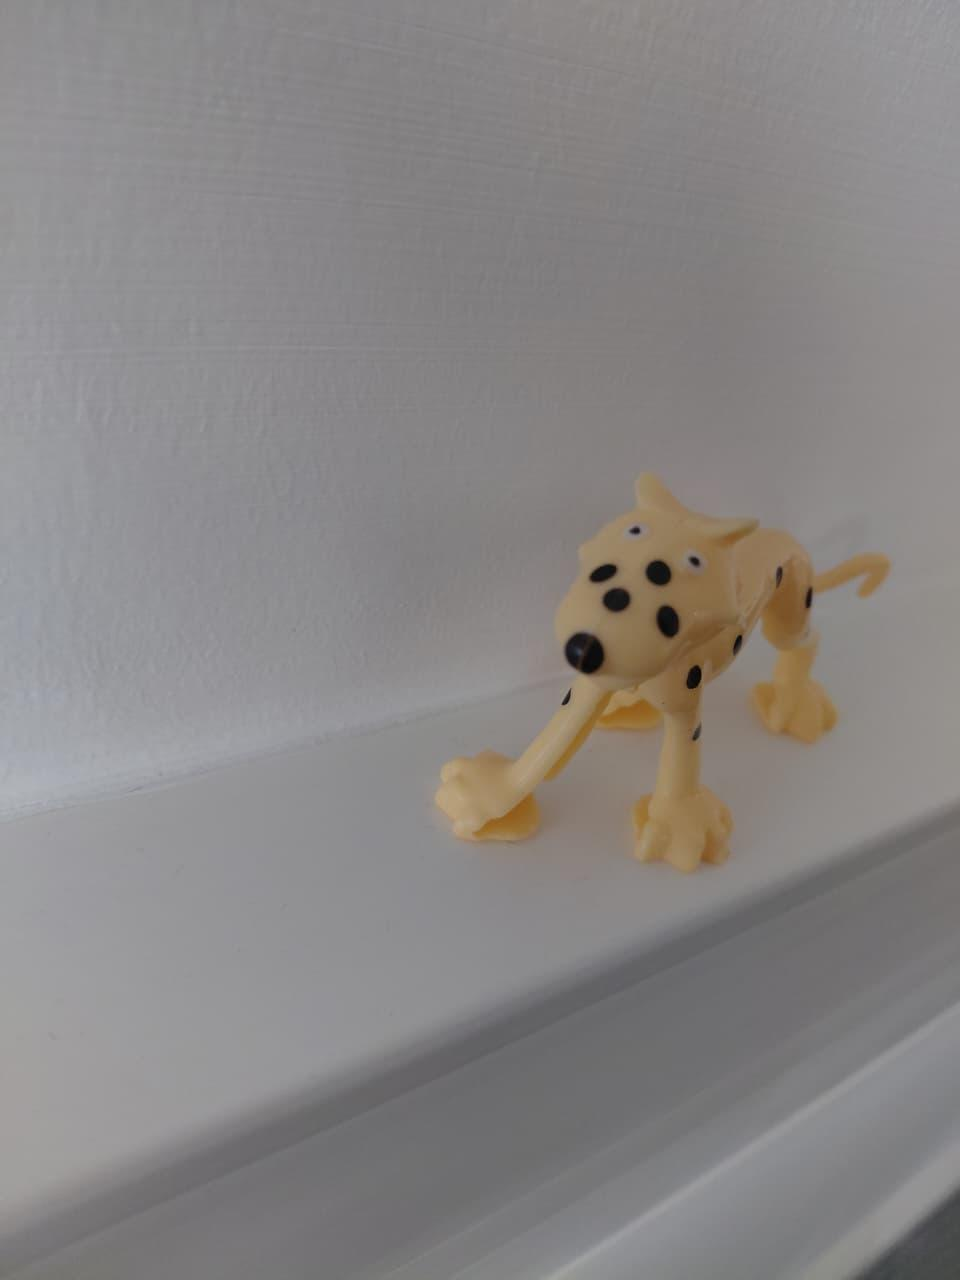cheetah: (390, 400, 906, 903)
